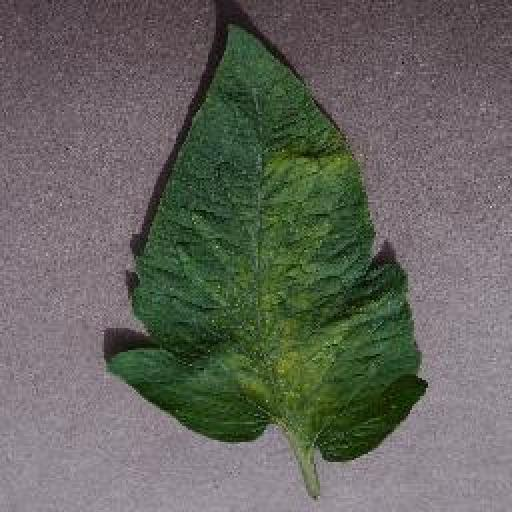Spider Mites: (106, 18, 426, 462)
